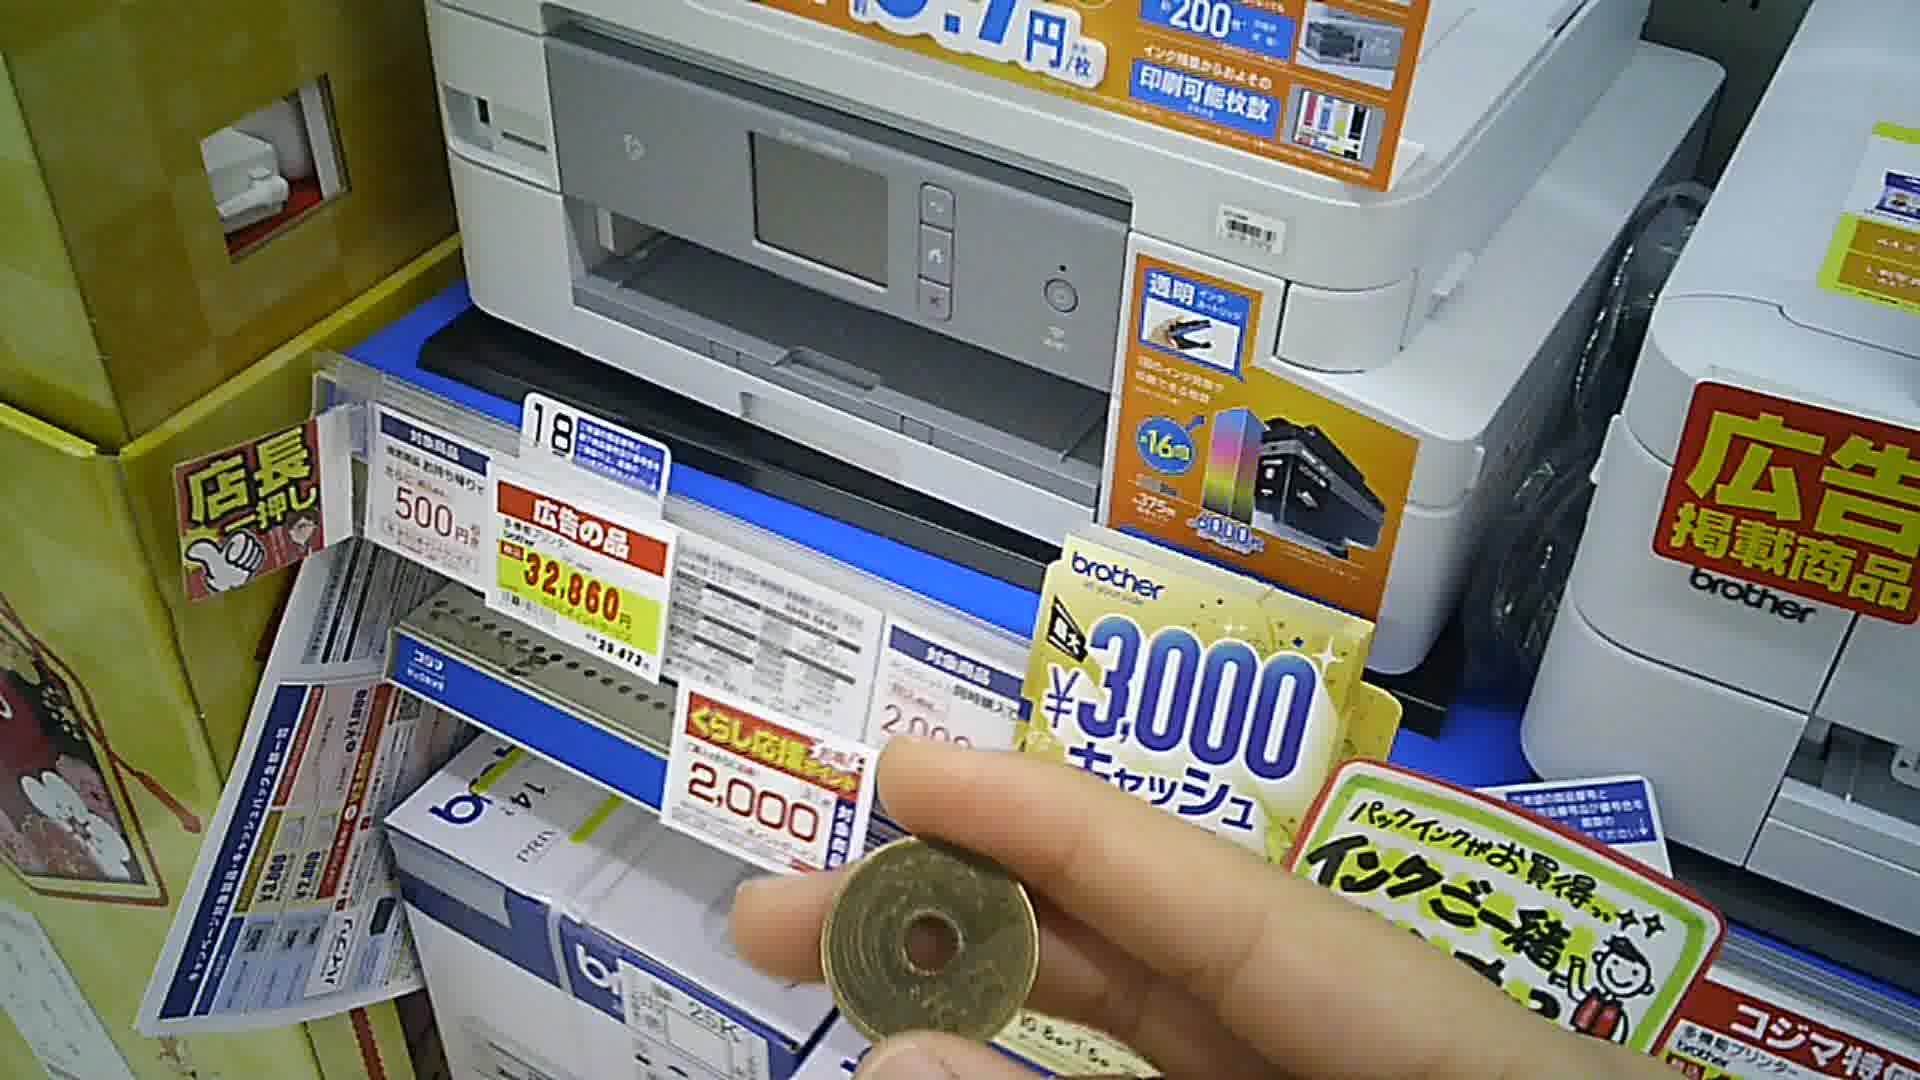5 Yen: (810, 820, 1036, 1048)
